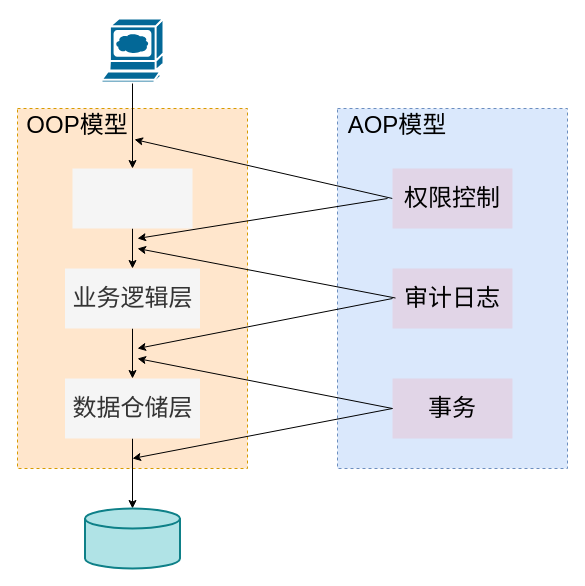
This 585x586 diagram has some shape labels left out. The shapes that lost their labels are listed below. From the top down, each one's centre as x and y in pixels, then its label:
the point at 132,198: 控制层
the point at 132,538: 数据库
